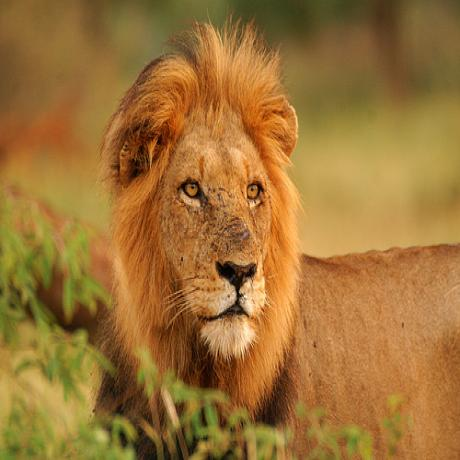Lion: (92, 20, 460, 460)
